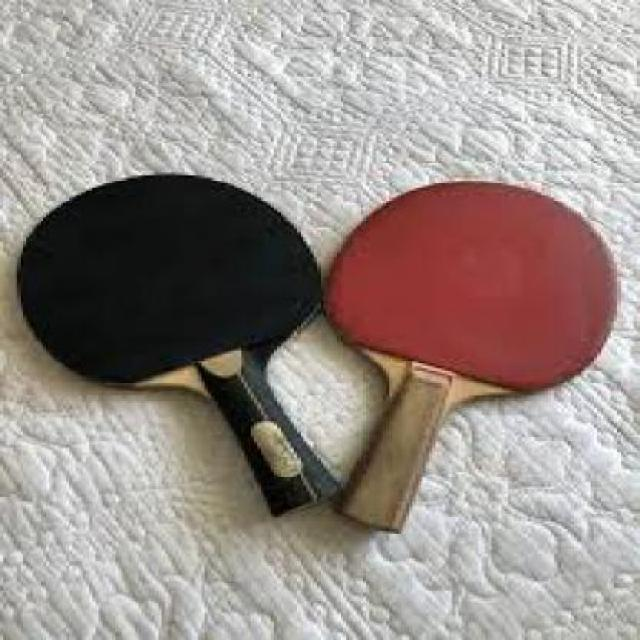table_tennis_racket: (13, 170, 335, 396), (325, 178, 621, 399)
